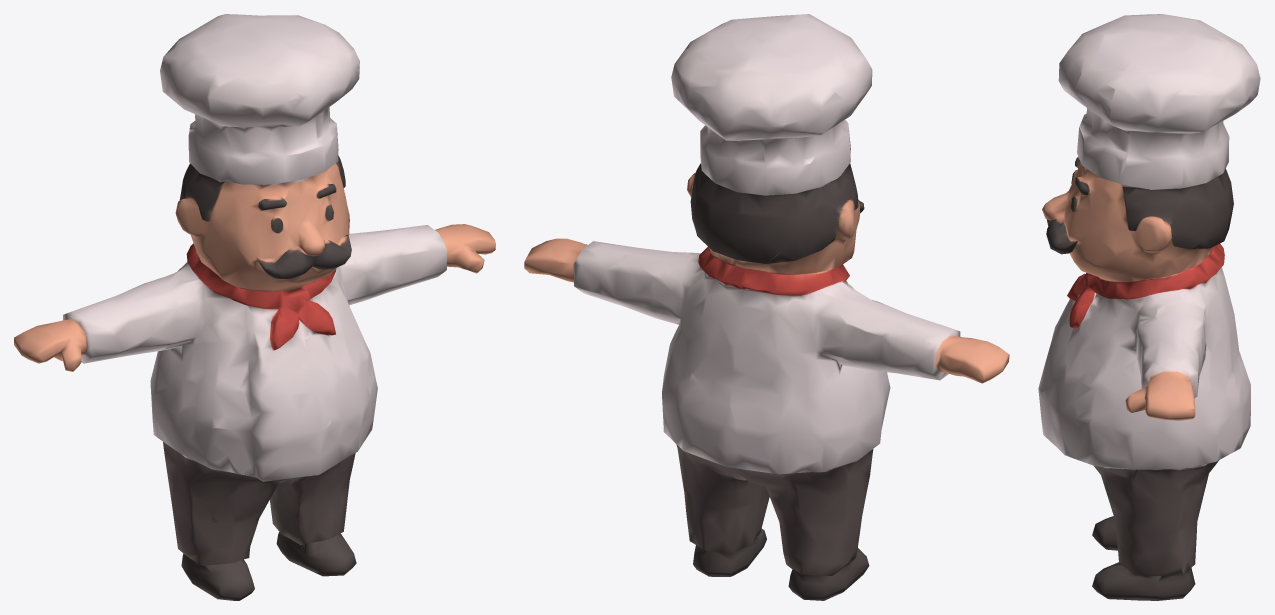
Rendered from chef_front.glb.
The picture shows the model from 3 angles, left to right: view 1: azimuth 30°, elevation 25°; view 2: azimuth 150°, elevation 25°; view 3: azimuth 270°, elevation 25°; orthographic projection.
Visible parts, largest first — view 1: tripo_node_1fdda16a-5947-4612-831f-9b24daacaa31; view 2: tripo_node_1fdda16a-5947-4612-831f-9b24daacaa31; view 3: tripo_node_1fdda16a-5947-4612-831f-9b24daacaa31.
Part boxes in pixels (x1,y1,x2,y2): tripo_node_1fdda16a-5947-4612-831f-9b24daacaa31: (14,14,495,600); tripo_node_1fdda16a-5947-4612-831f-9b24daacaa31: (524,14,1009,600); tripo_node_1fdda16a-5947-4612-831f-9b24daacaa31: (1038,14,1260,600).
Bounding box in the file's own units: 0.9091 × 1 × 0.3756.
Materials: 1 (1 with a texture image).
